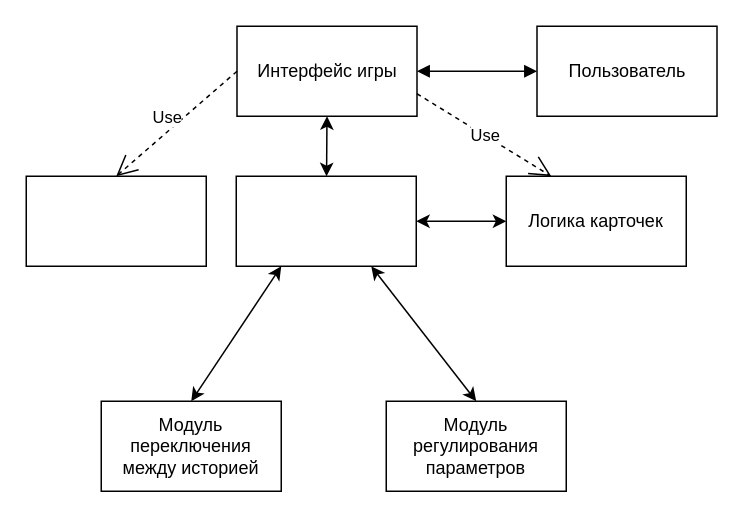
The diagram is 744 pixels wide and 518 high, and some of its shapes have lost their labels. Each missing label, with the centre of its shape:
"Логика анимации карточки" goes at pixel 115 220.
"Логика игры" goes at pixel 325 220.
